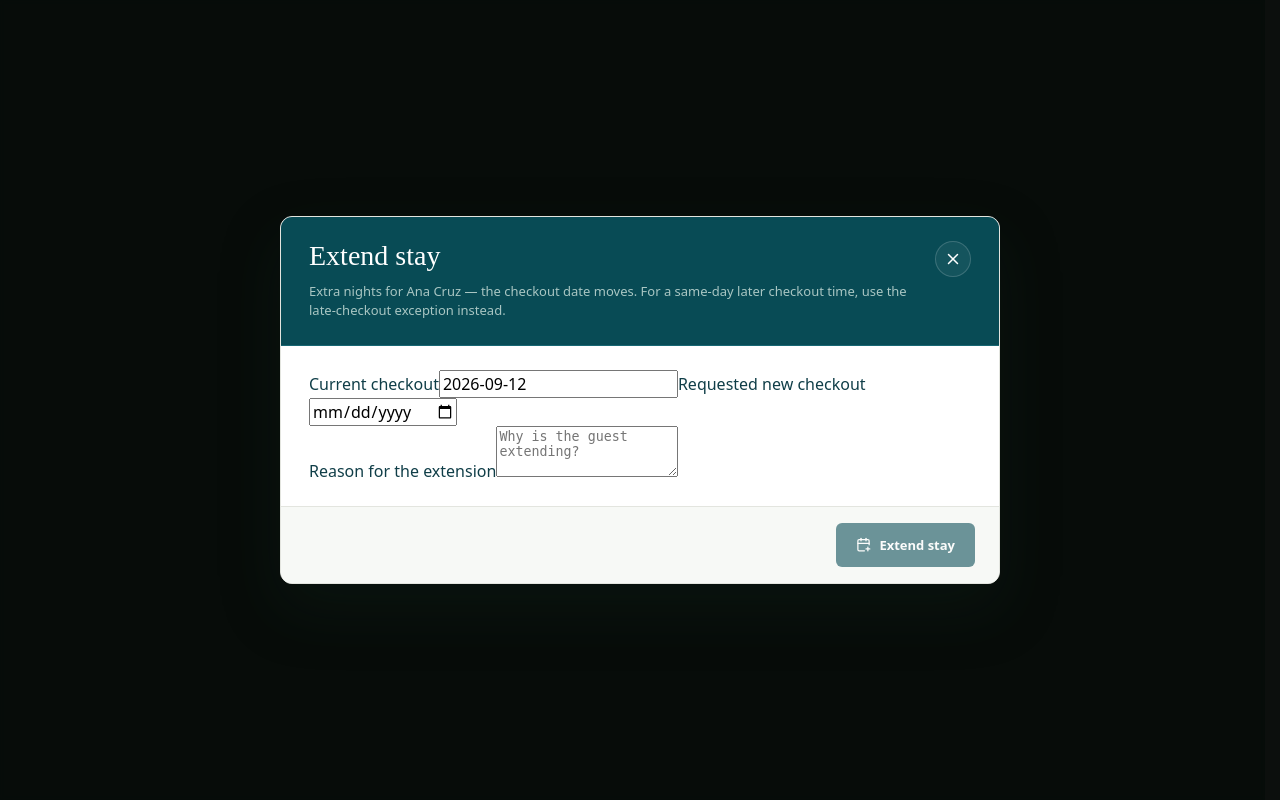
it: ExtendStayDialog › keeps submit disabled until the server preview and a reason exist
In the date field labelled "Requested new checkout": coordinates (383, 412) [309, 398, 457, 426], type "2026-09-15"
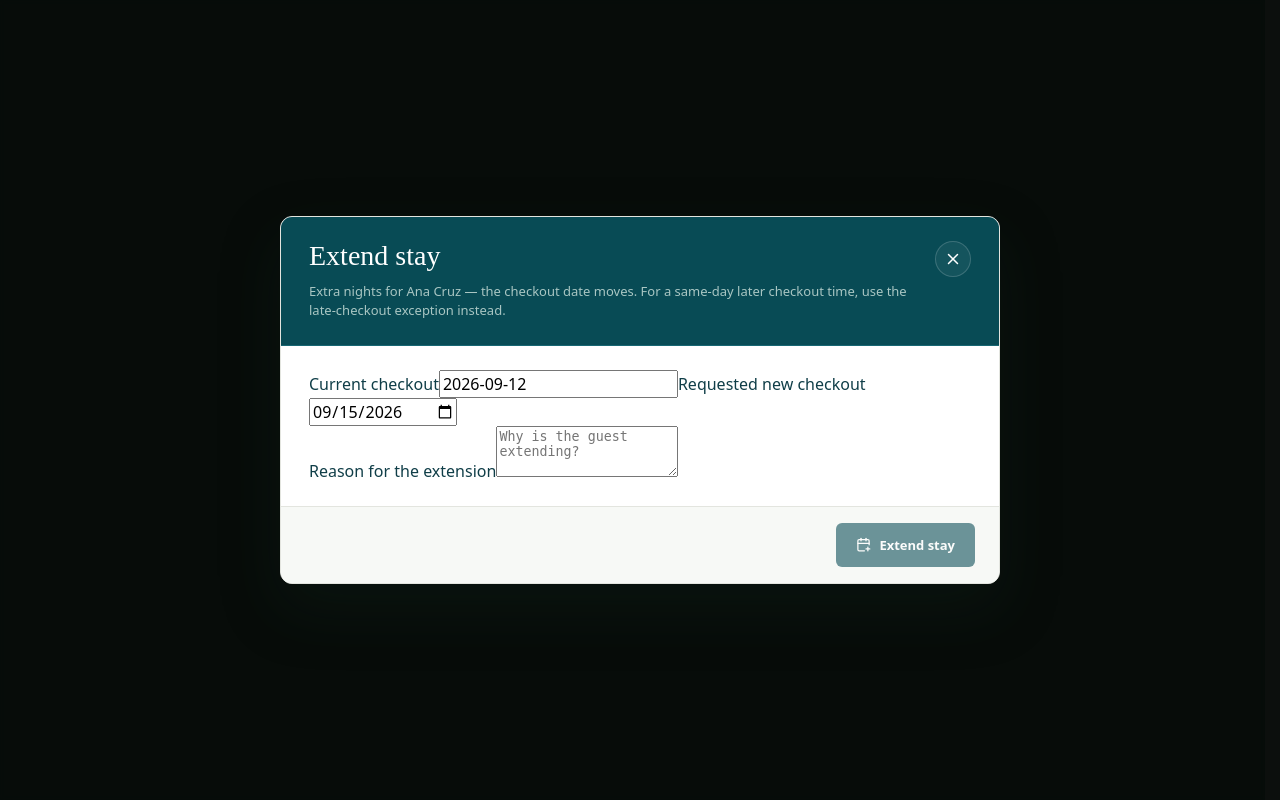
Expected: the button "Extend stay" is disabled, [836, 523, 975, 567]
In the text box labelled "Reason for the extension": coordinates (587, 451) [496, 426, 678, 477], type "Guest asked to stay three more nights"
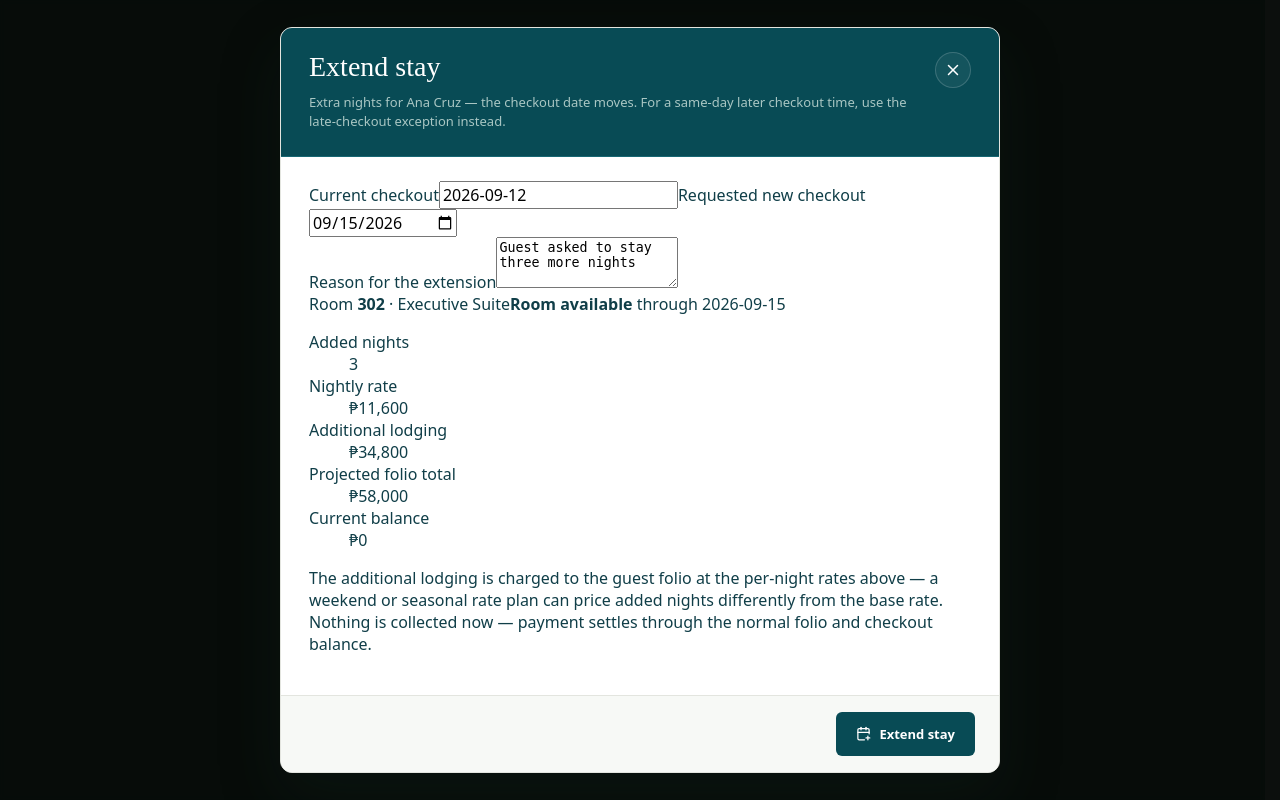
Now the button "Extend stay" is enabled, box [836, 712, 975, 756]
